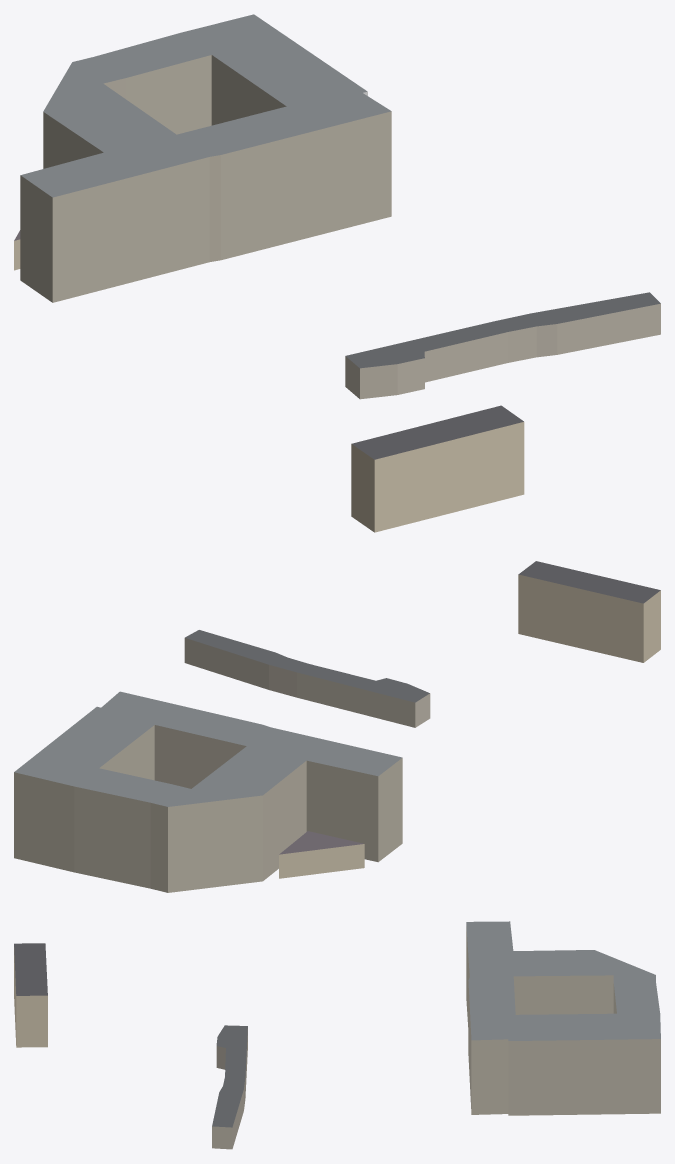
3 renders of one model, top to bottom at view 1: azimuth 30°, elevation 25°; view 2: azimuth 150°, elevation 25°; view 3: azimuth 270°, elevation 25°, orthographic. The views are drawn at different scales.
Parts seen in each view (by area): view 1: tuile; view 2: tuile; view 3: tuile.
Part boxes in pixels (box(x1,y1,x2,y2)): tuile: box(14, 14, 660, 532); tuile: box(14, 561, 660, 892); tuile: box(14, 921, 660, 1149).
Bounding box in the file's own units: 142 × 34.54 × 259.
